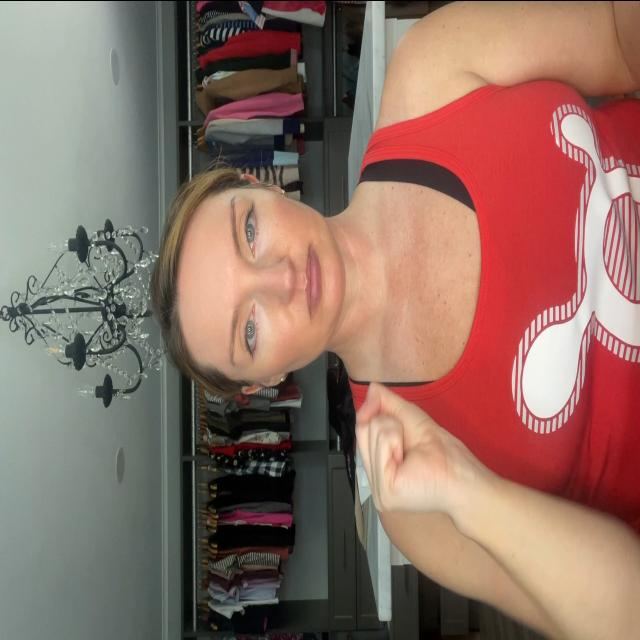Rock: (354, 380, 456, 518)
